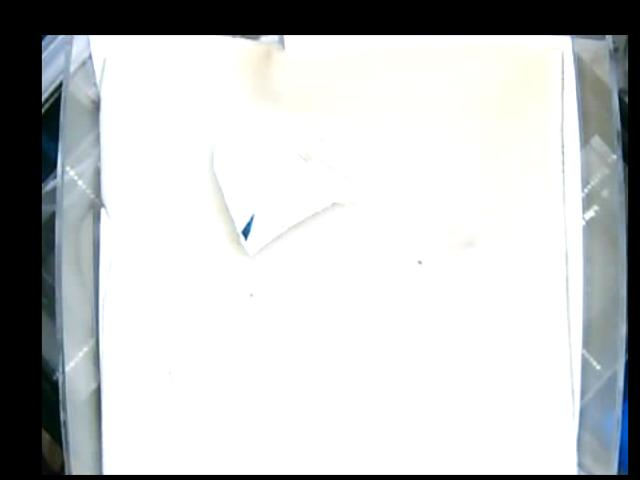China: (212, 133, 361, 254)
